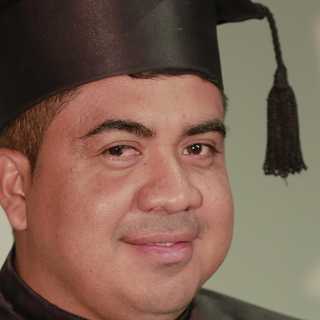eye: (94, 139, 146, 164), (180, 136, 221, 163)
